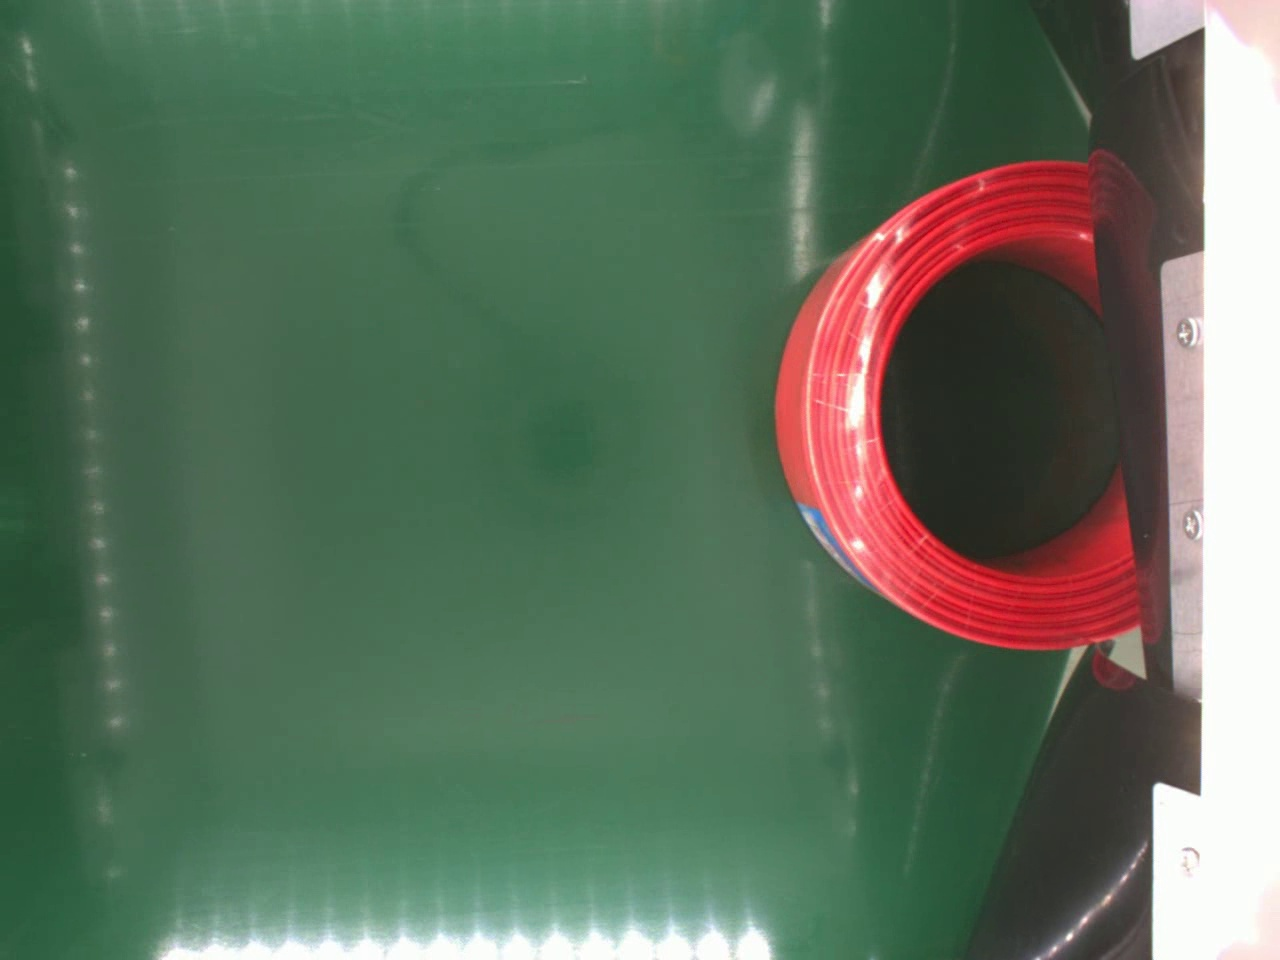red: (773, 159, 1139, 652)
